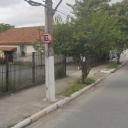NoEstacionar: (38, 33, 54, 45)
